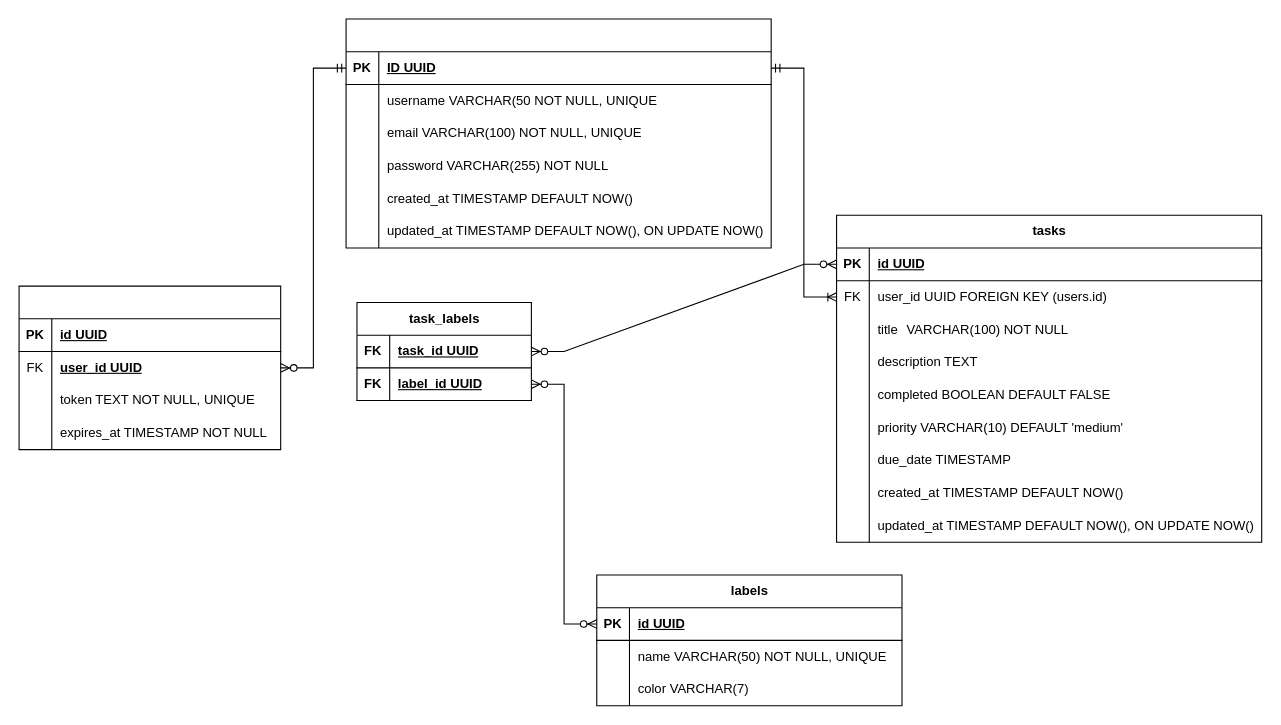
This 1281x725 diagram has some shape labels left out. The shapes that lost their labels are listed below. From the top down, each one's box as (x1, y1, x2, y2) in pixels, then its label:
(345, 18, 771, 248): users
(18, 285, 281, 450): revoked_tokens
